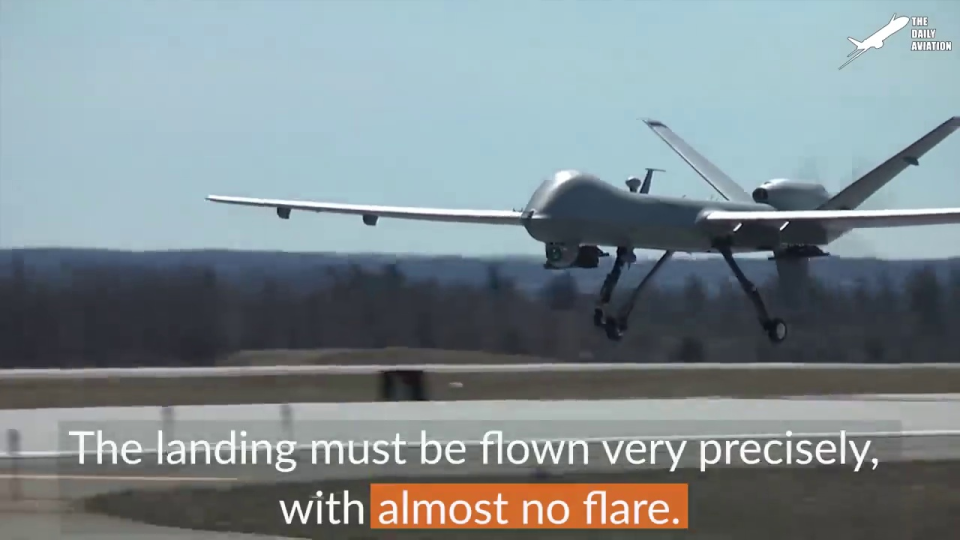military drone: (205, 116, 960, 343)
